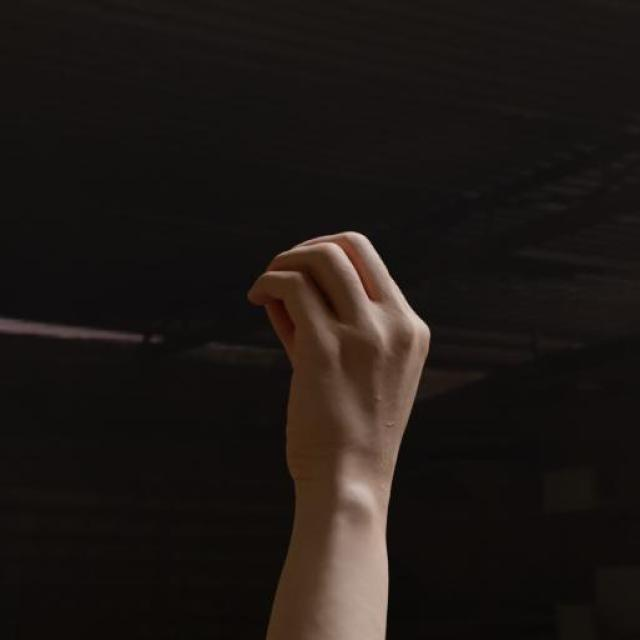O: (212, 198, 469, 602)
